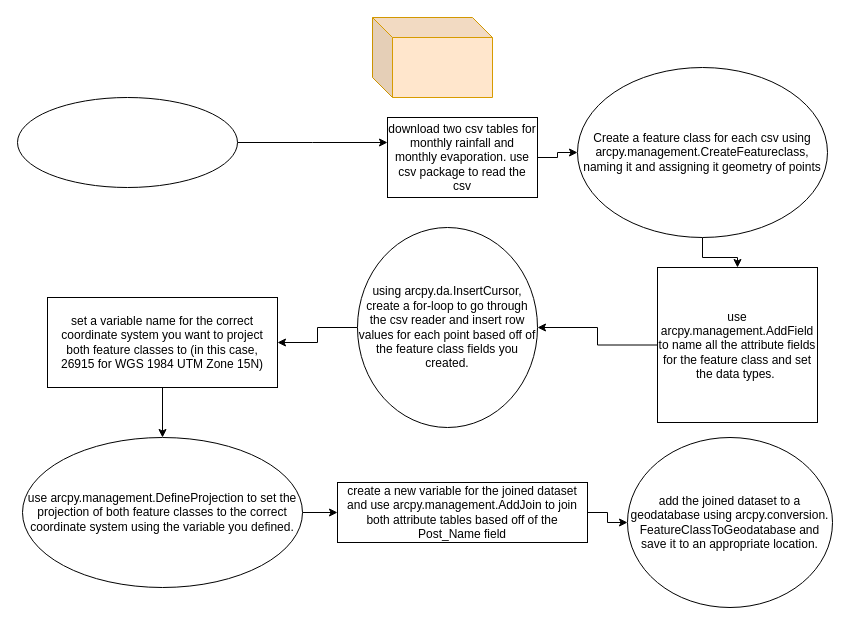
Image size: 850x625. Some labels were removed from this diagram. Each missing label, with the centre of its shape:
"ETL Pipeline" goes at [432,57].
"Using inspect element to find API url, use request package to call NDAWN API" goes at [127,142].
